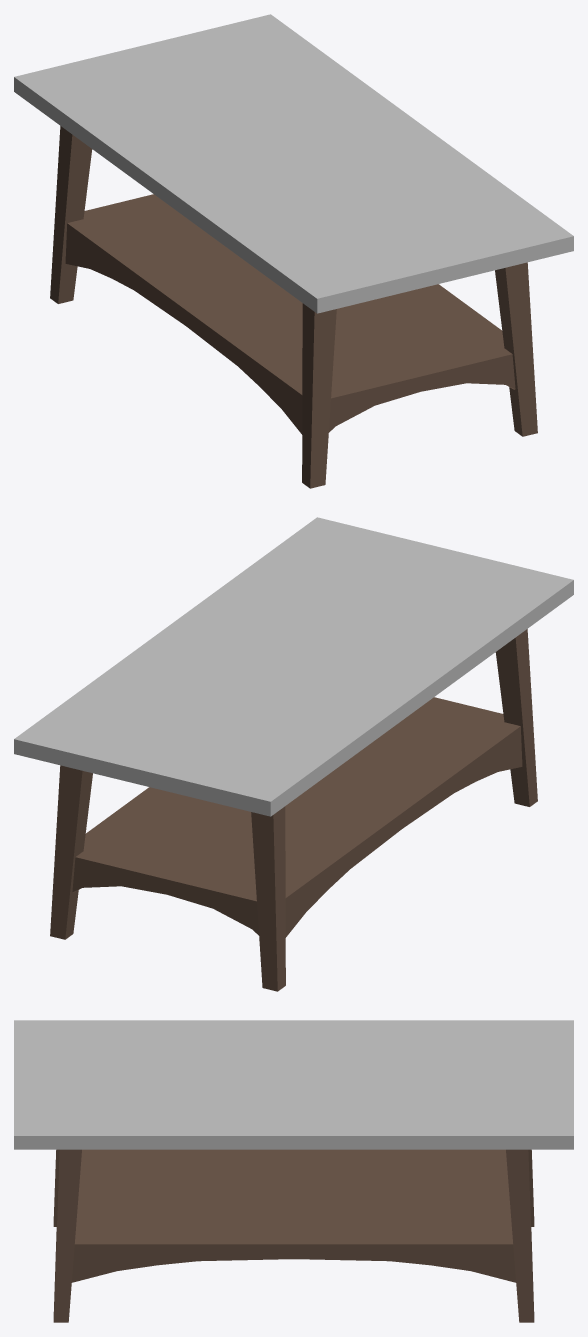
Rendered from table_W.fbx.
3 views of the same model, one above another, from view 1: azimuth 30°, elevation 25°; view 2: azimuth 150°, elevation 25°; view 3: azimuth 270°, elevation 25° (orthographic). The views are drawn at different scales.
Parts seen in each view (by area): view 1: CoffeeTable_03; view 2: CoffeeTable_03; view 3: CoffeeTable_03.
Part boxes in pixels (bbox=[...]): CoffeeTable_03: bbox=[14, 14, 573, 488]; CoffeeTable_03: bbox=[14, 517, 573, 991]; CoffeeTable_03: bbox=[14, 1020, 573, 1322].
Size of the model in its own units: 50.08 by 38.97 by 102.
